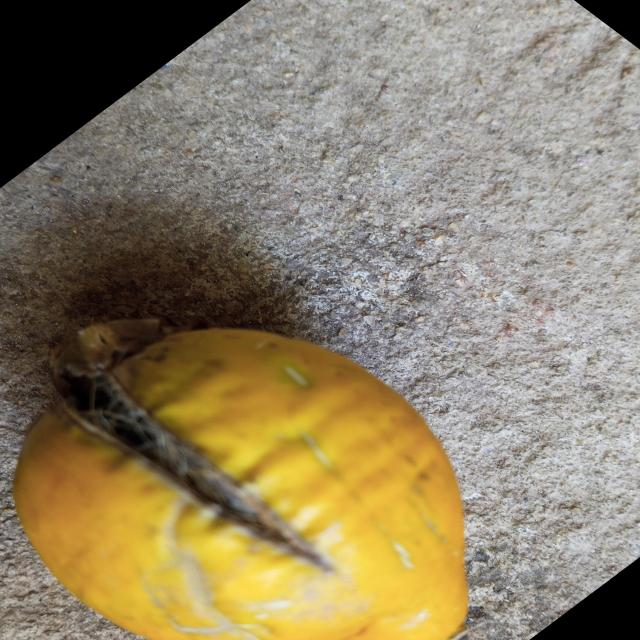damaged: (12, 318, 468, 640)
